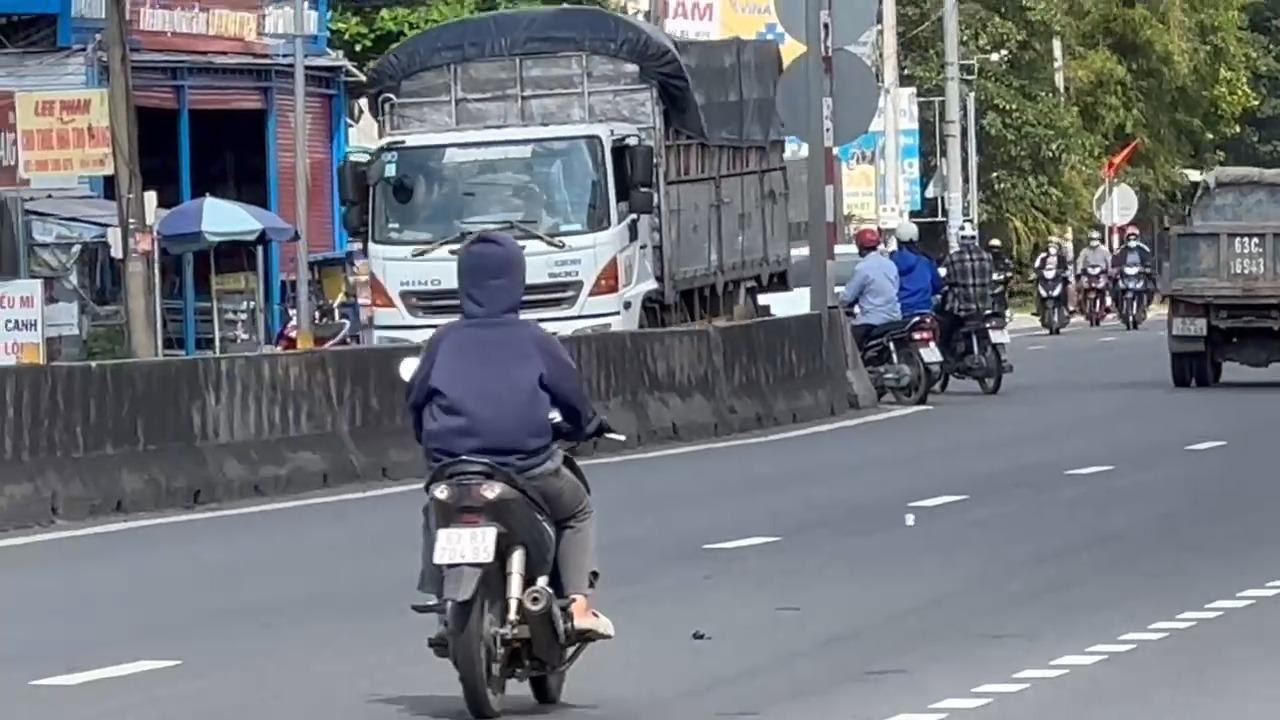bien_so: (431, 525, 498, 565)
